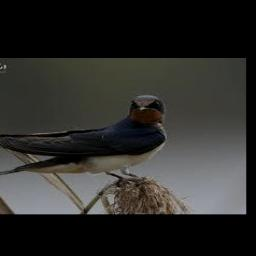Swallow: (0, 95, 168, 179)
